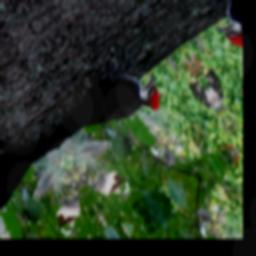Woodpecker: (37, 41, 173, 172)
